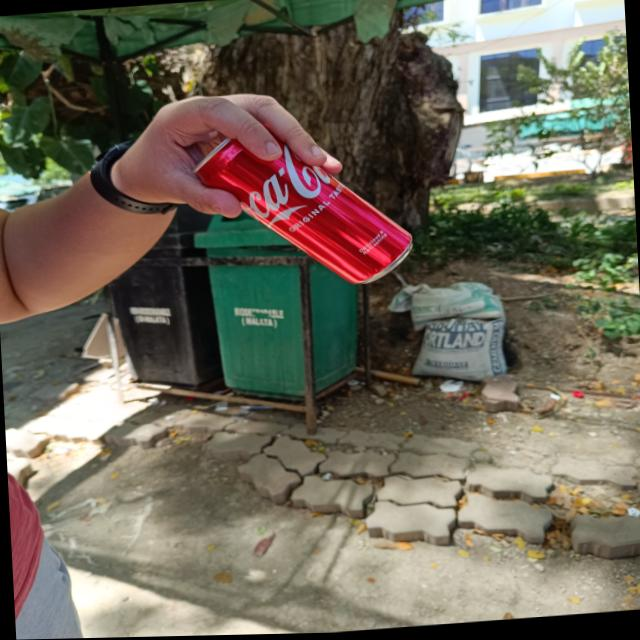coke: (188, 115, 414, 298)
